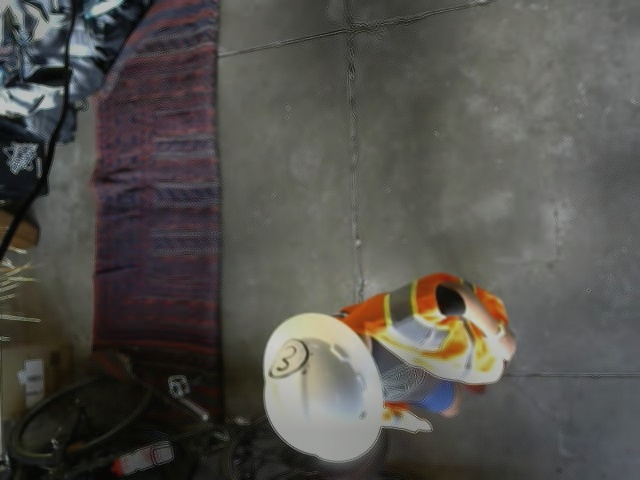three: (266, 338, 307, 380)
